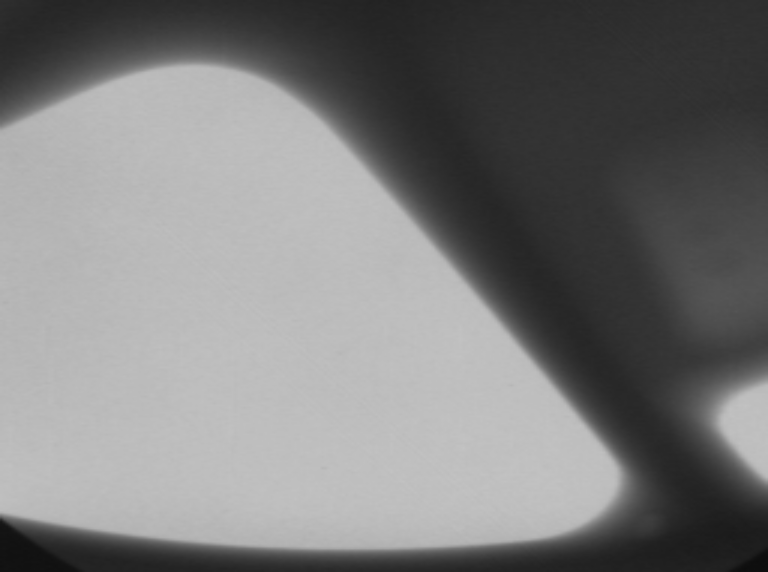defect: (627, 509, 693, 547)
